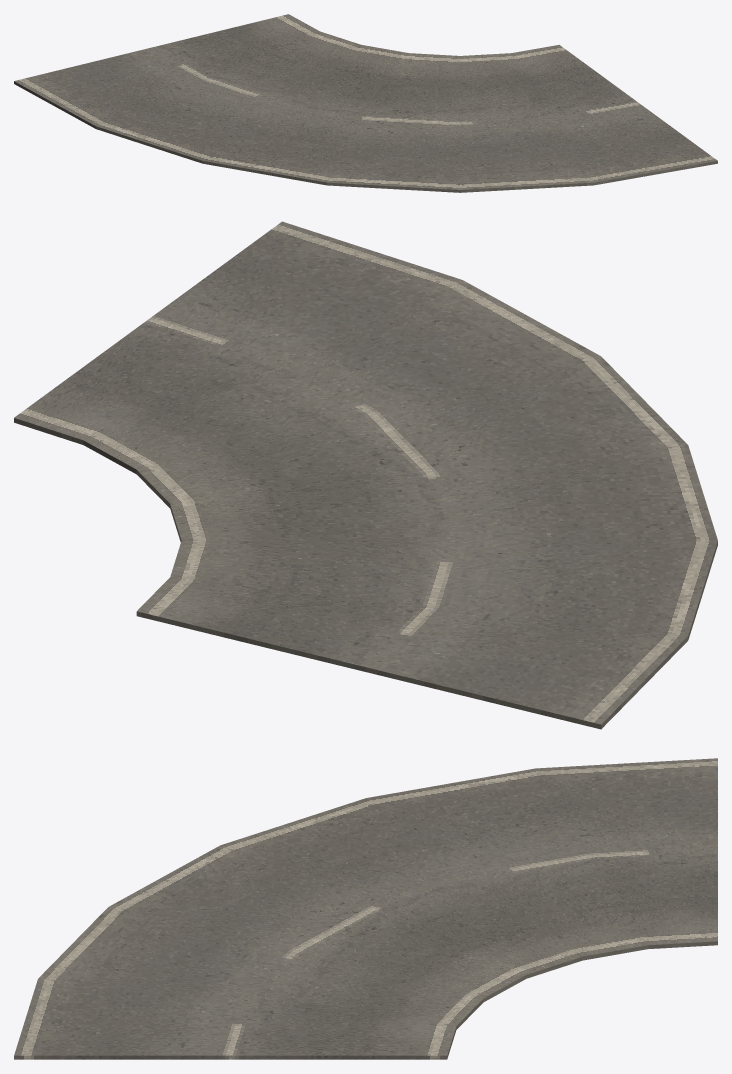
The model's file is road_4_long_corner_no_sides.glb.
The picture shows the model from 3 angles, top to bottom: view 1: azimuth 30°, elevation 25°; view 2: azimuth 150°, elevation 25°; view 3: azimuth 270°, elevation 25°; orthographic projection. The views are drawn at different scales.
Parts seen in each view (by area): view 1: road_4_long_corner_no_sides; view 2: road_4_long_corner_no_sides; view 3: road_4_long_corner_no_sides.
Boxes of the visible parts, bbox=[...] form: road_4_long_corner_no_sides: bbox=[14, 14, 717, 192]; road_4_long_corner_no_sides: bbox=[14, 221, 717, 729]; road_4_long_corner_no_sides: bbox=[14, 758, 717, 1059].
Bounding box in the file's own units: 26 × 0.16 × 26.
Materials: 1 (1 with a texture image).
